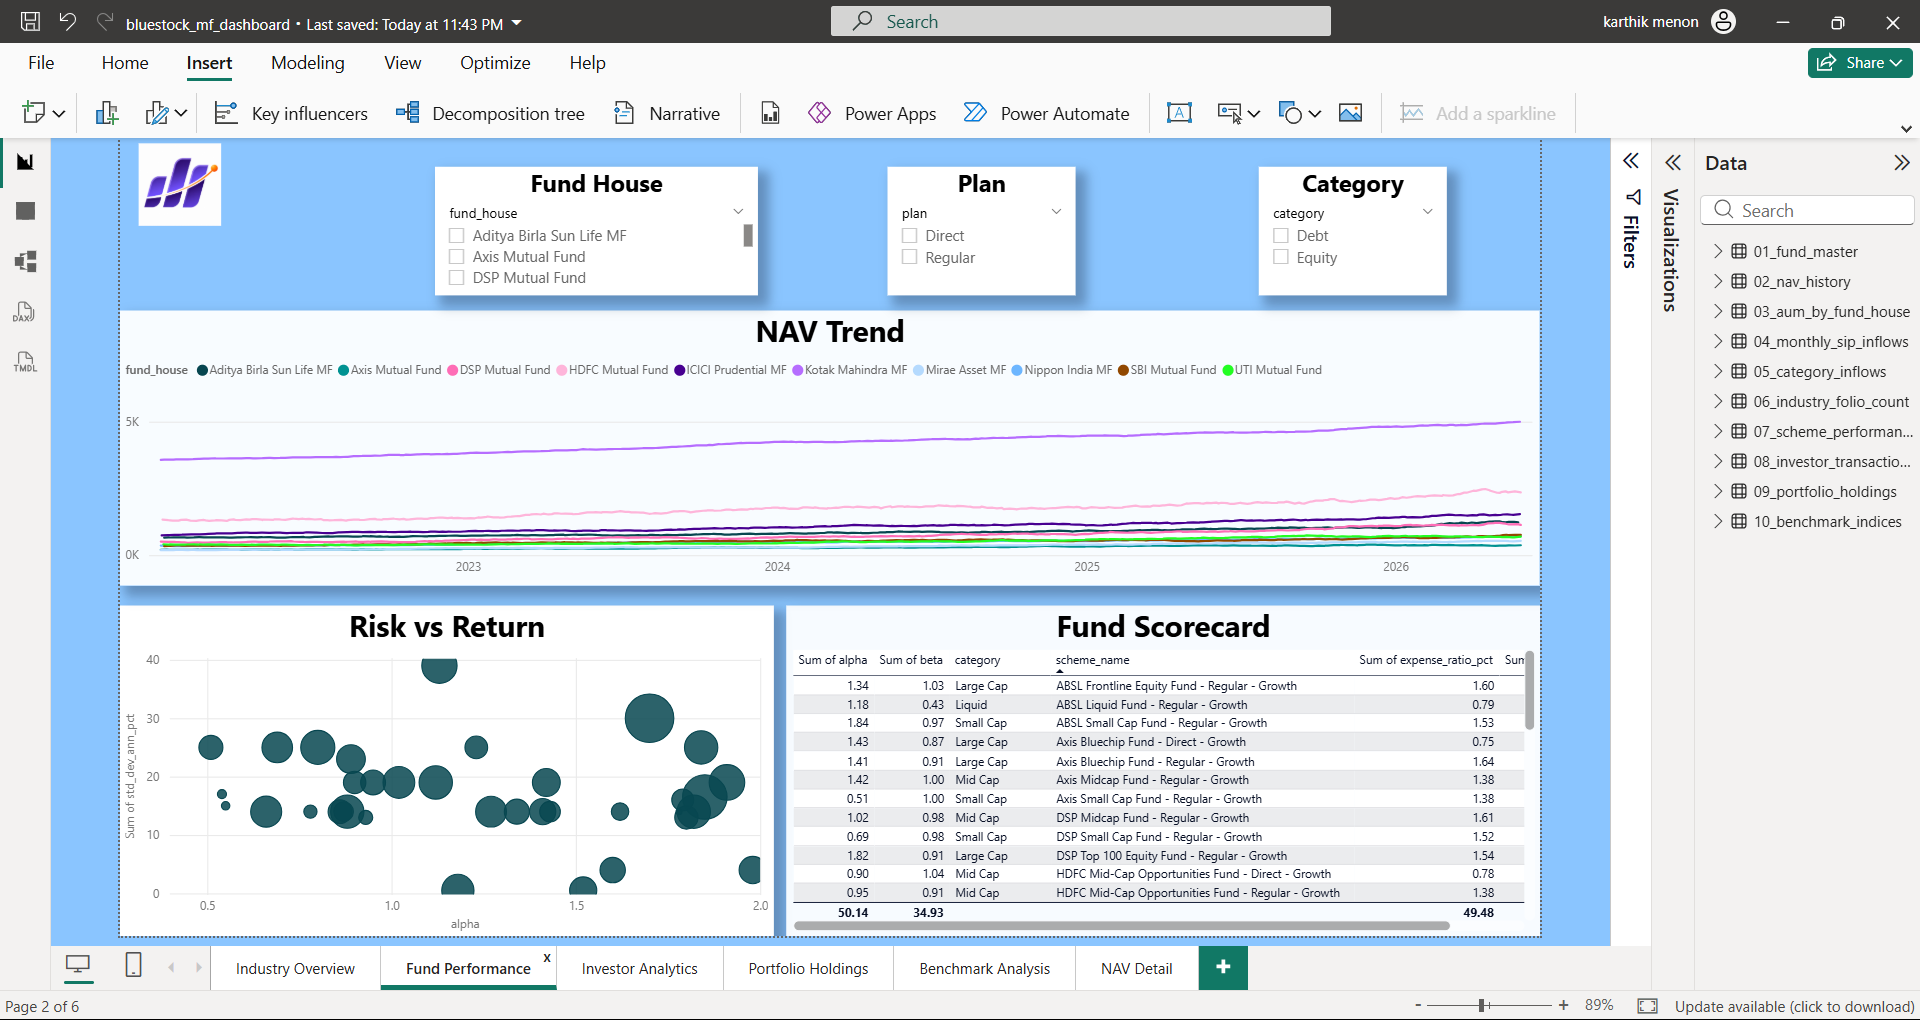

The dashboard page shown, as its layout file describes it:
{"tool":"powerbi","page":{"name":"Fund Performance","canvas":[1280,720],"ordinal":1},"visuals":[{"type":"scatterChart","title":"Risk vs Return","fields":{"X":["07_scheme_performance.alpha"],"Y":["Sum(07_scheme_performance.std_dev_ann_pct)"],"Size":["Sum(07_scheme_performance.aum_crore)"]},"box":[0,421.9,589.4,298.4],"z":0},{"type":"tableEx","title":"Fund Scorecard","fields":{"Values":["Sum(07_scheme_performance.alpha)","Sum(07_scheme_performance.beta)","07_scheme_performance.category","07_scheme_performance.scheme_name","Sum(07_scheme_performance.expense_ratio_pct)","Sum(07_scheme_performance.aum_crore)"]},"box":[600.4,421.9,679.9,298.4],"z":1000},{"type":"lineChart","title":"NAV Trend","fields":{"Y":["Sum(02_nav_history.nav)"],"Series":["01_fund_master.fund_house"],"Category":["02_nav_history.date"]},"box":[0,155.3,1280.3,248.2],"z":2000},{"type":"slicer","title":"Fund House","fields":{"Values":["01_fund_master.fund_house"]},"box":[283.7,25.7,291,116.2],"z":3000},{"type":"slicer","title":"Category","fields":{"Values":["01_fund_master.category"]},"box":[1027.2,25.7,170,116.2],"z":4000},{"type":"slicer","title":"Plan","fields":{"Values":["01_fund_master.plan"]},"box":[692.1,25.7,170,116.2],"z":5000},{"type":"image","box":[0,0,107.6,84.4],"z":5001}]}

Visuals, with their boxes on the page's 1280x720 design canvas (x1, y1, x2, y2). These are canvas units, not pixel positions in the 1920x1020 screenshot, which may show the page scaled, cropped or inside an application window:
"Risk vs Return" scatterChart: l=0, t=422, r=589, b=720
"Fund Scorecard" tableEx: l=600, t=422, r=1280, b=720
"NAV Trend" lineChart: l=0, t=155, r=1280, b=404
"Fund House" slicer: l=284, t=26, r=575, b=142
"Category" slicer: l=1027, t=26, r=1197, b=142
"Plan" slicer: l=692, t=26, r=862, b=142
image: l=0, t=0, r=108, b=84
